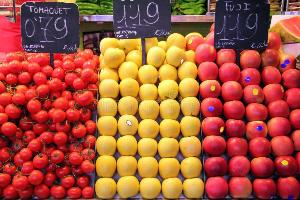apple: (196, 28, 300, 200), (100, 32, 198, 200), (195, 43, 217, 64), (104, 47, 125, 68)
tomato: (0, 34, 98, 200), (63, 60, 75, 70)
